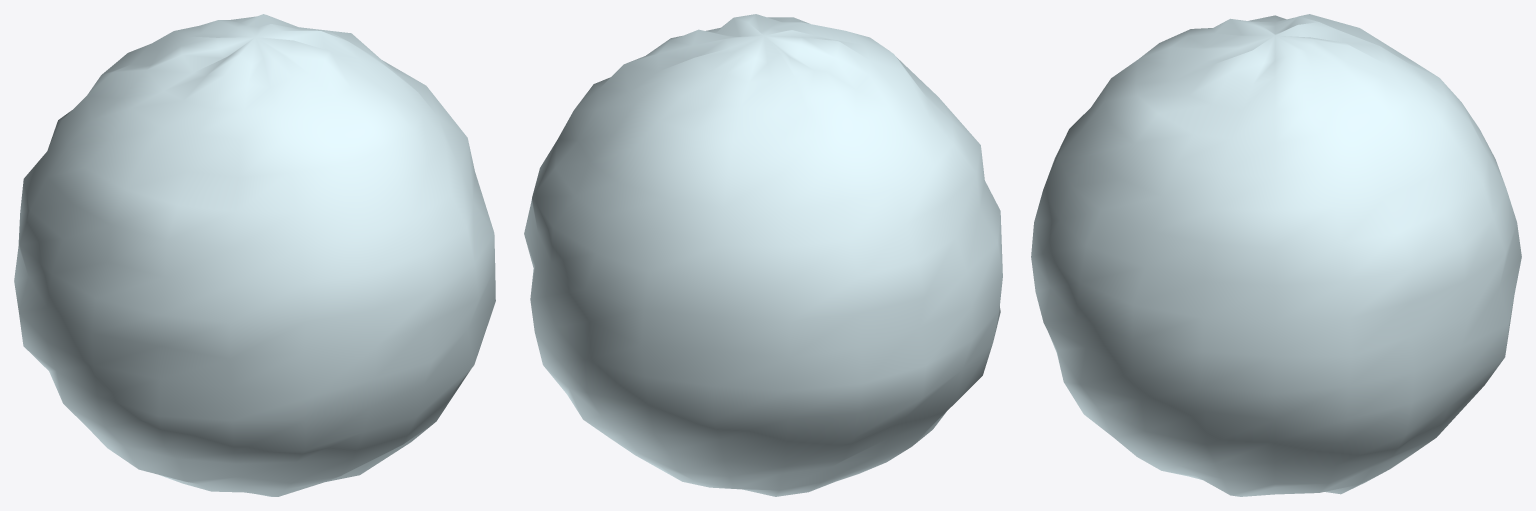
Rendered from ball_01.fbx.
The picture shows the model from 3 angles, left to right: view 1: azimuth 30°, elevation 25°; view 2: azimuth 150°, elevation 25°; view 3: azimuth 270°, elevation 25°; orthographic projection.
Parts seen in each view (by area): view 1: ball; view 2: ball; view 3: ball.
Boxes of the visible parts, left/top/right/bottom form: ball: left=14, top=14, right=495, bottom=496; ball: left=524, top=14, right=1002, bottom=496; ball: left=1031, top=14, right=1521, bottom=496.
Size of the model in its own units: 2.43 by 2.45 by 2.46.
